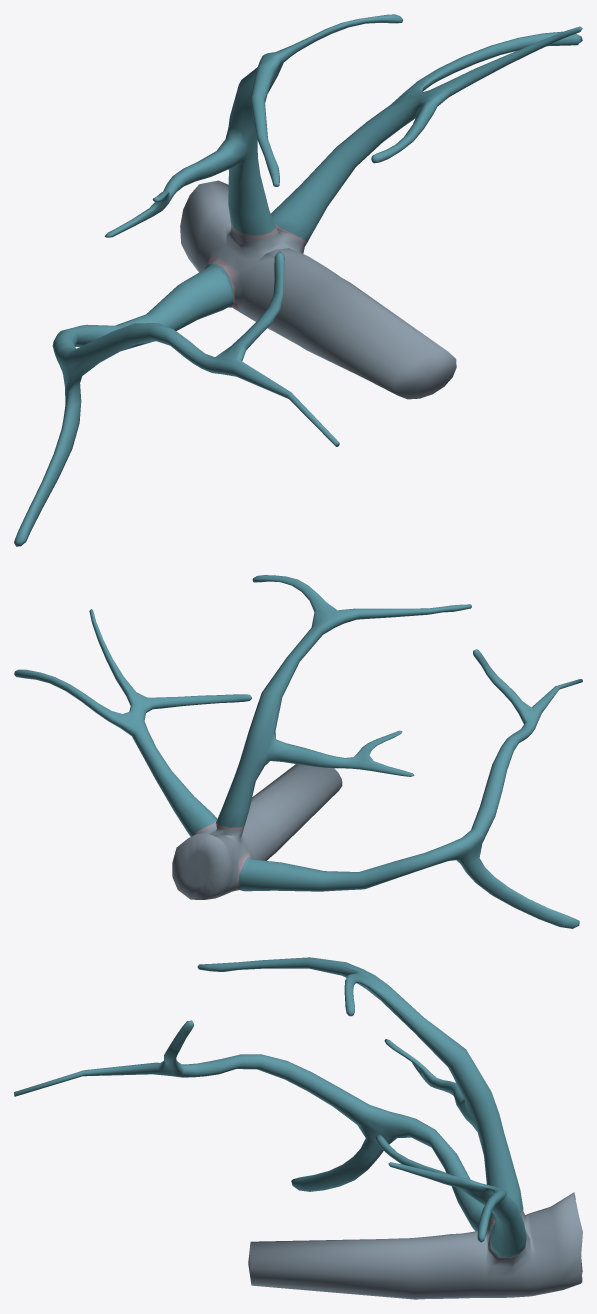
Rendered from IVC_Heart.fbx.
3 views of the same model, one above another, from view 1: azimuth 30°, elevation 25°; view 2: azimuth 150°, elevation 25°; view 3: azimuth 270°, elevation 25° (orthographic). The views are drawn at different scales.
Visible parts, largest first — view 1: IVC_Heart; view 2: IVC_Heart; view 3: IVC_Heart.
Boxes of the visible parts, x1,y1,x2,y2 form: IVC_Heart: (14, 14, 582, 546); IVC_Heart: (14, 575, 582, 928); IVC_Heart: (14, 957, 582, 1299).
Bounding box in the file's own units: 182 × 108 × 154.
